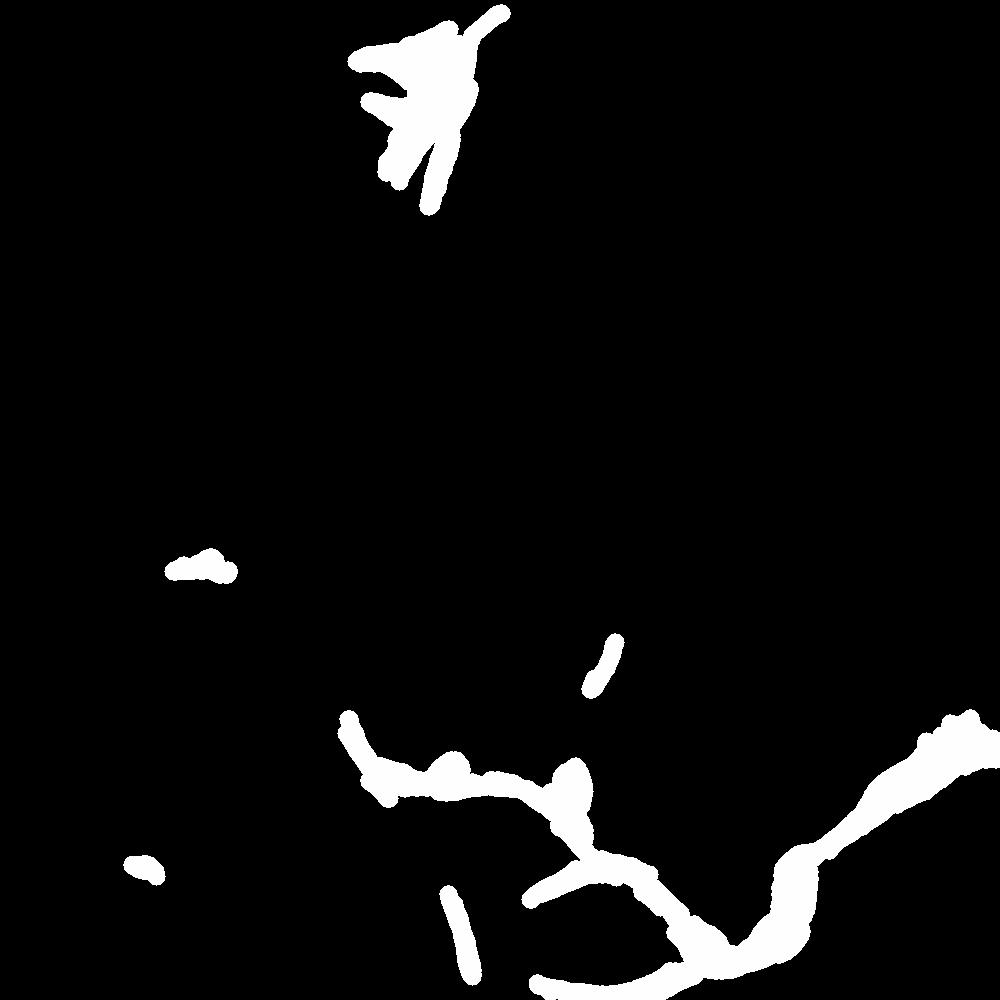illegal: (429, 700, 1000, 1000), (428, 753, 609, 874), (358, 7, 498, 157), (332, 653, 410, 792), (577, 632, 636, 717), (196, 545, 237, 585), (141, 850, 164, 879)
